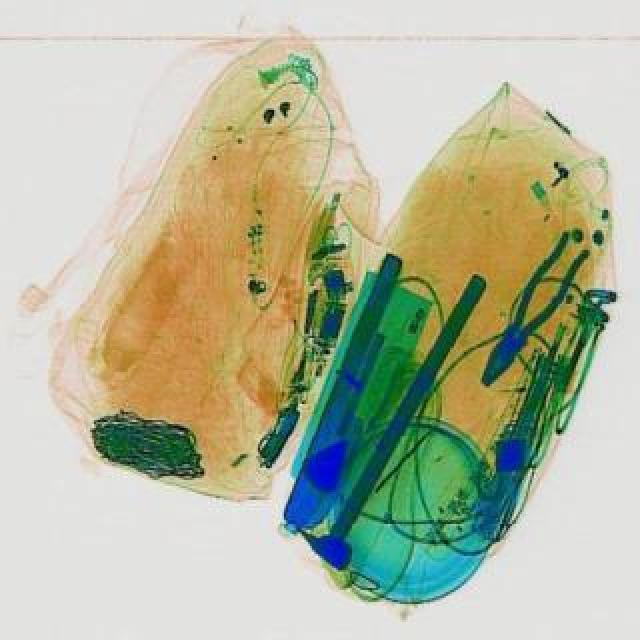wrench: (468, 228, 596, 392)
